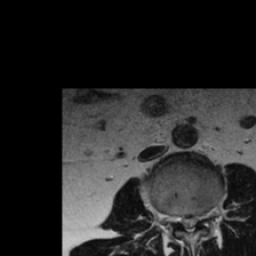CCS_stenosis: (185, 206, 192, 240)
LFS_stenosis: (199, 204, 207, 229)
LLS_stenosis: (192, 206, 199, 232)
RFS_normal: (170, 205, 178, 232)
RLS_normal: (178, 206, 185, 236)
